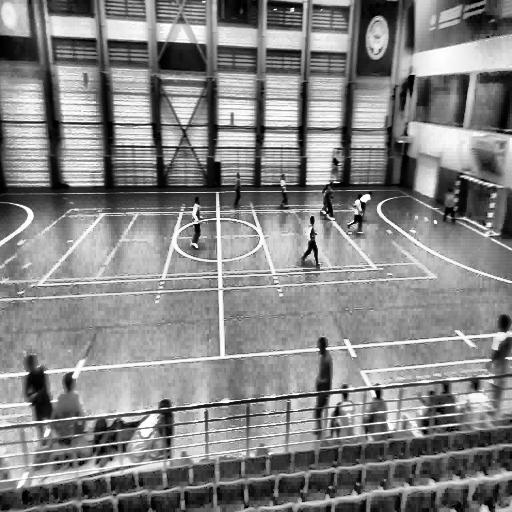ball: (432, 219, 438, 227)
player: (311, 336, 331, 435), (301, 216, 320, 266), (348, 192, 370, 232), (192, 196, 202, 250), (442, 187, 456, 221), (321, 182, 334, 216), (360, 190, 372, 226), (279, 173, 288, 206), (233, 173, 241, 207)
